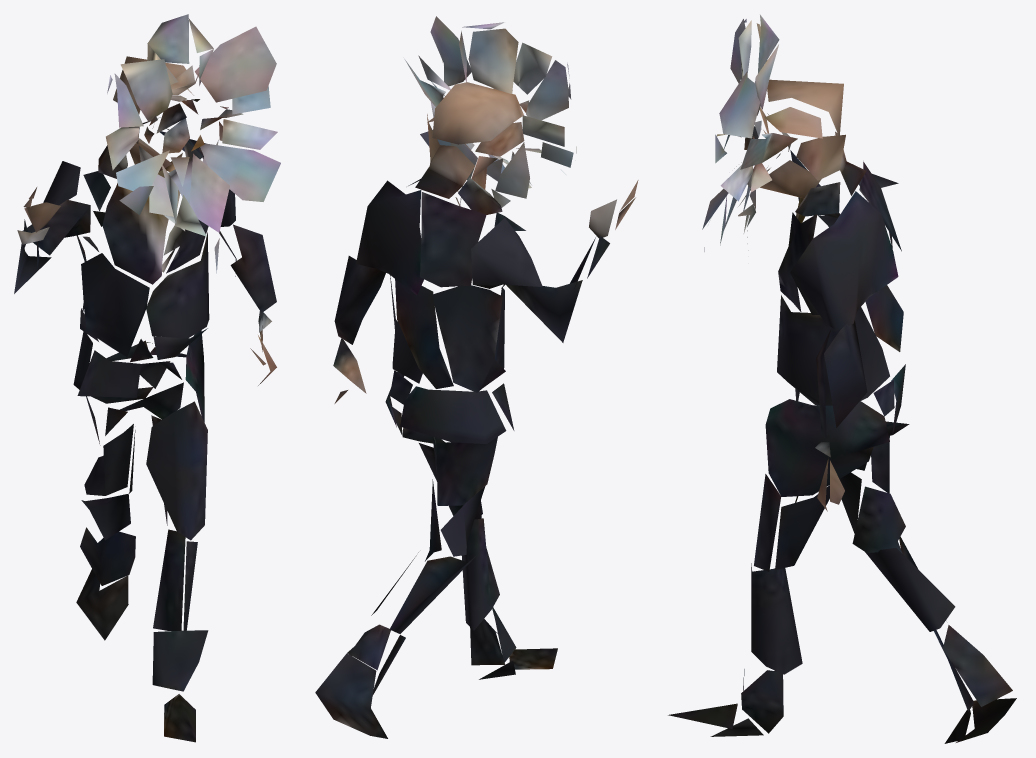
The model's file is cast_wiseguy_far.glb.
The picture shows the model from 3 angles, left to right: view 1: azimuth 30°, elevation 25°; view 2: azimuth 150°, elevation 25°; view 3: azimuth 270°, elevation 25°; orthographic projection. The views are drawn at different scales.
Parts seen in each view (by area): view 1: tripo_node_096ba9d0-4f72-4ce4-bbae-e90f7e3d7e71; view 2: tripo_node_096ba9d0-4f72-4ce4-bbae-e90f7e3d7e71; view 3: tripo_node_096ba9d0-4f72-4ce4-bbae-e90f7e3d7e71.
Part boxes in pixels (x1=…): tripo_node_096ba9d0-4f72-4ce4-bbae-e90f7e3d7e71: x1=14, y1=14, x2=280, y2=742; tripo_node_096ba9d0-4f72-4ce4-bbae-e90f7e3d7e71: x1=315, y1=16, x2=638, y2=738; tripo_node_096ba9d0-4f72-4ce4-bbae-e90f7e3d7e71: x1=668, y1=14, x2=1016, y2=743.
Bounding box in the file's own units: 0.4169 × 0.9726 × 0.4375.
Materials: 1 (1 with a texture image).
